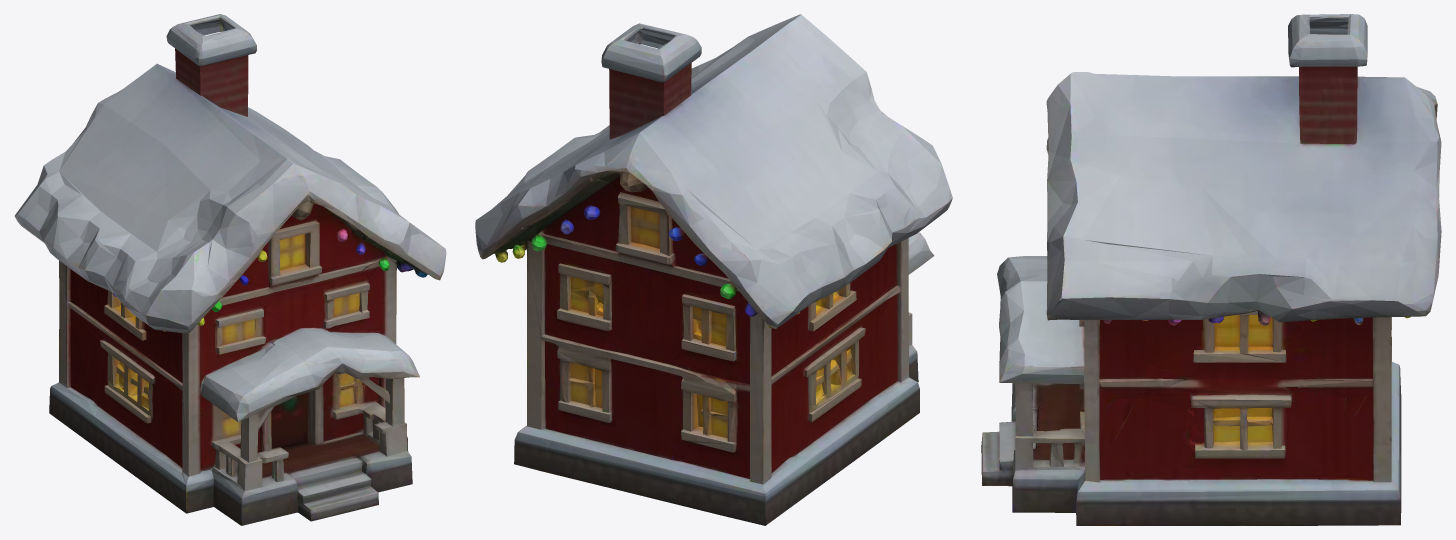
Rendered from house.glb.
3 views of the same model, side by side, from view 1: azimuth 30°, elevation 25°; view 2: azimuth 150°, elevation 25°; view 3: azimuth 270°, elevation 25° (orthographic). The views are drawn at different scales.
Visible parts, largest first — view 1: geometry_0; view 2: geometry_0; view 3: geometry_0.
Part boxes in pixels (x1,y1,x2,y2): geometry_0: [14, 14, 446, 525]; geometry_0: [475, 14, 952, 525]; geometry_0: [981, 14, 1441, 525].
Bounding box in the file's own units: 0.8216 × 0.9983 × 0.9264.
Materials: 1 (1 with a texture image).
